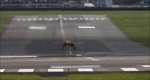maybay_muctieu: (51, 33, 84, 51)
